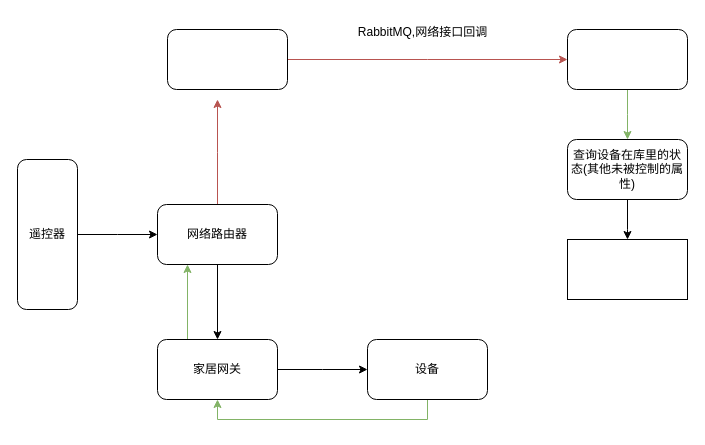
Some shapes in this 705 by 445 pixel diagram are drawn without their labels. Each missing label, with the centre of its shape:
"cndrealty" belongs at (x=627, y=59).
"NEX,KONKE,HISENSE" belongs at (x=227, y=59).
